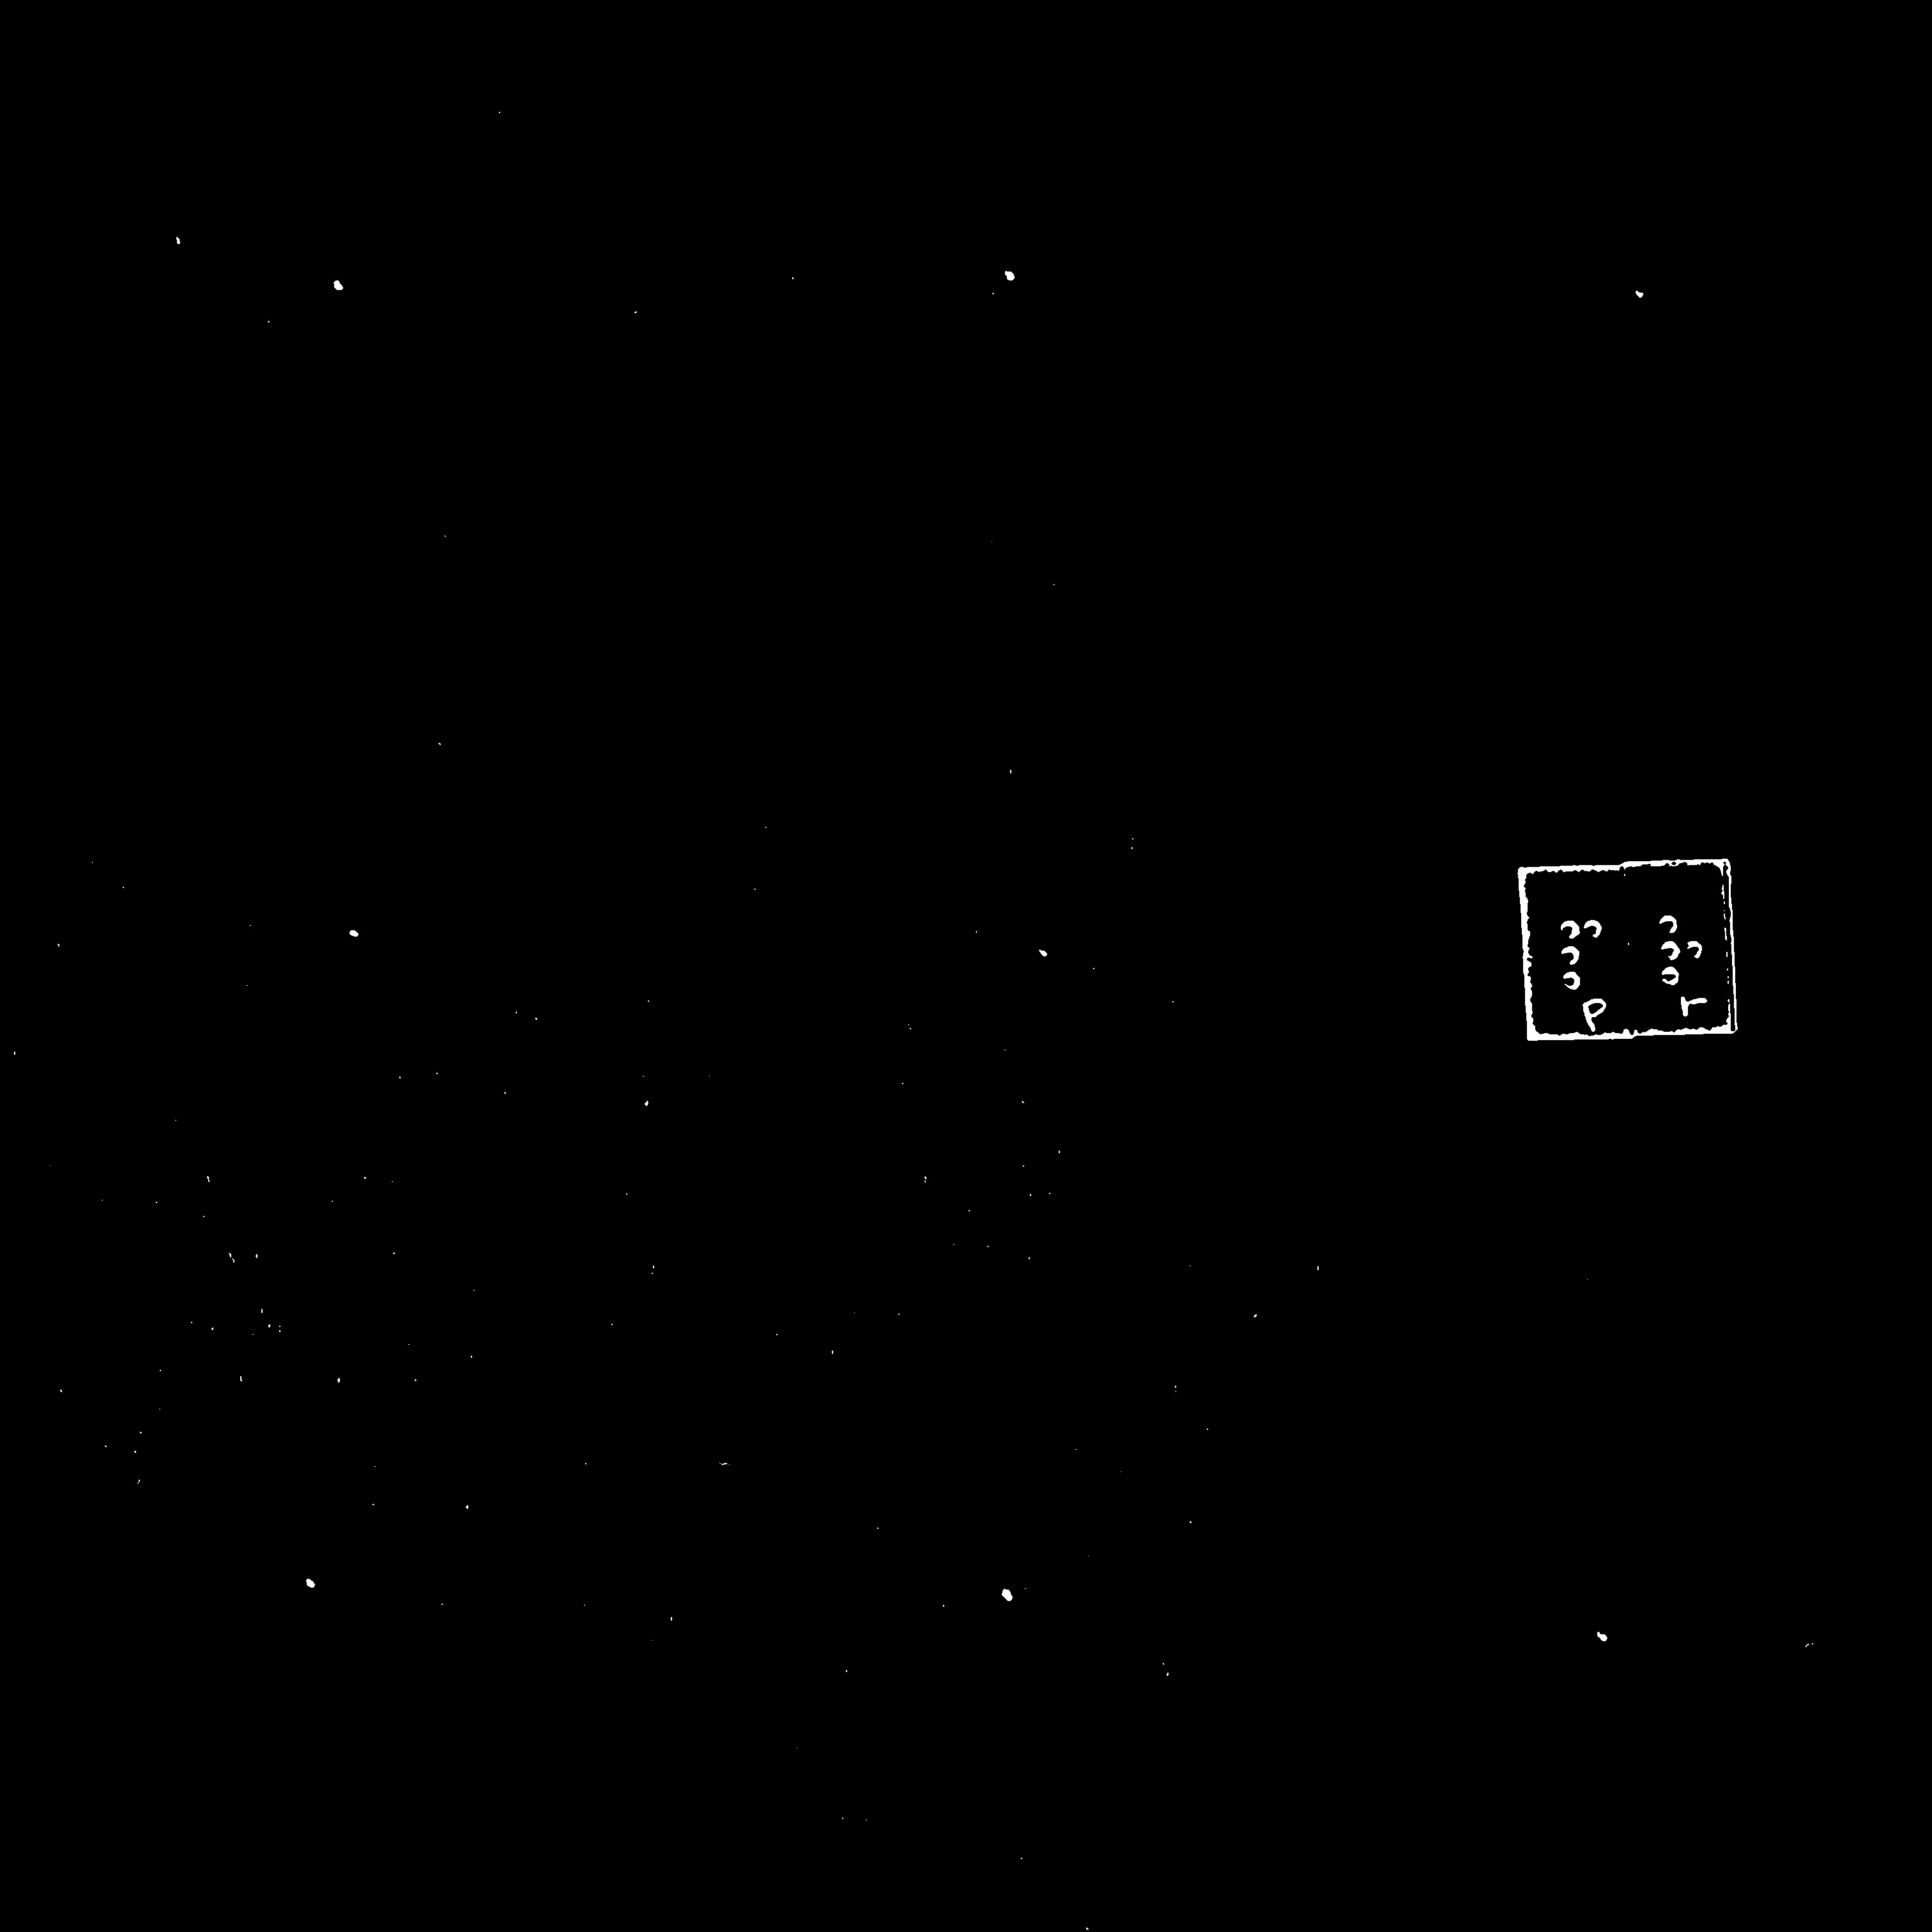p: (1551, 912, 1606, 993)
r: (1650, 905, 1712, 991)
